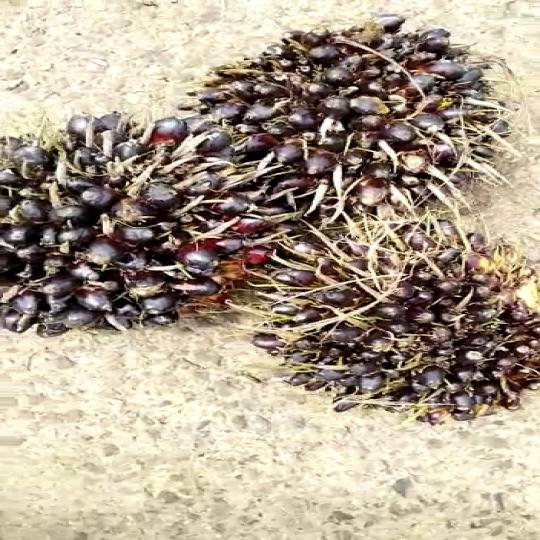mentah: (182, 16, 526, 219), (0, 105, 285, 345), (239, 222, 540, 427)
